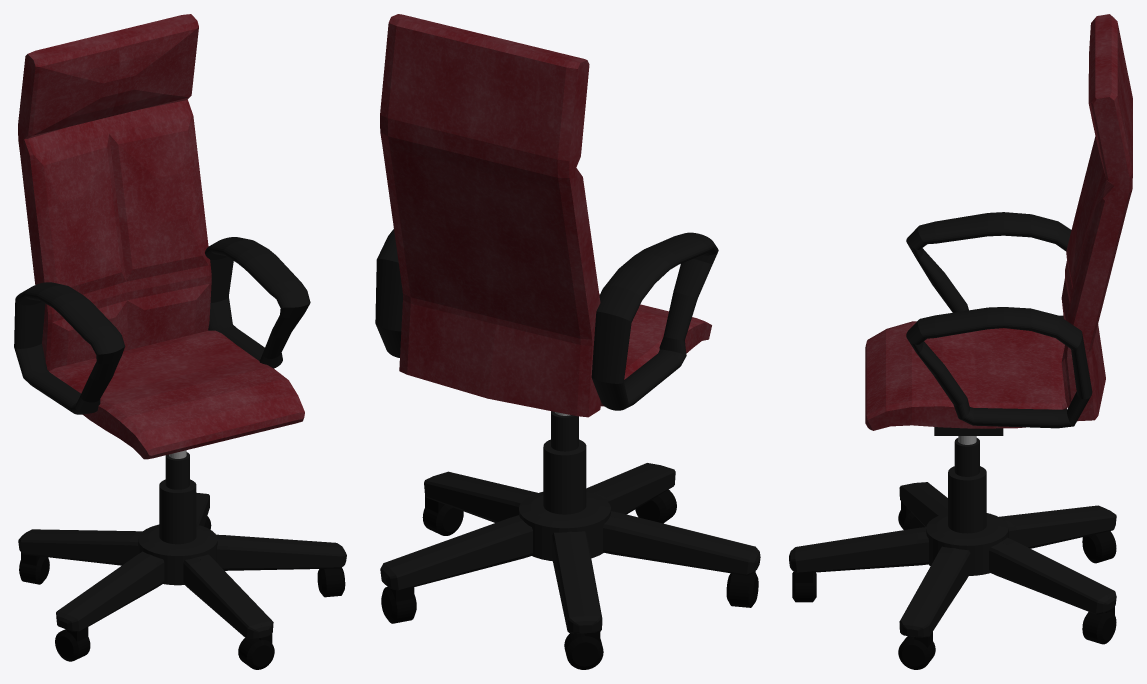
The picture shows the model from 3 angles, left to right: view 1: azimuth 30°, elevation 25°; view 2: azimuth 150°, elevation 25°; view 3: azimuth 270°, elevation 25°; orthographic projection. The views are drawn at different scales.
Parts seen in each view (by area): view 1: Cube.001, Cube, Cylinder, Cylinder.001, Cube.006, Cube.004, Cube.003, Cube.007, Cylinder.003, Cylinder.004, Cylinder.005, Cylinder.008 (+2 smaller); view 2: Cube.001, Cylinder, Cube.006, Cube.005, Cylinder.003, Cube.007, Cube.004, Cylinder.004, Cylinder.001, Cube.003, Cube, Cylinder.009 (+4 smaller); view 3: Cube, Cube.001, Cylinder.001, Cylinder, Cube.005, Cube.003, Cube.004, Cube.007, Cylinder.003, Cylinder.004, Cube.006, Cylinder.006 (+4 smaller).
Part boxes in pixels (x1,y1,x2,y2): Cube.001: (18,14,211,370); Cube: (49,330,304,459); Cylinder: (14,282,125,414); Cylinder.001: (205,237,310,368); Cube.006: (56,551,164,632); Cube.004: (216,534,346,570); Cube.003: (183,554,273,639); Cube.007: (18,529,142,565); Cylinder.003: (159,452,196,544); Cylinder.004: (138,524,217,585); Cylinder.005: (238,633,274,669); Cylinder.008: (55,627,90,661); Cube.001: (380,14,600,417); Cylinder: (591,232,718,410); Cube.006: (603,511,760,575); Cube.005: (380,515,532,591); Cylinder.003: (543,411,586,514); Cube.007: (552,531,602,633); Cube.004: (424,471,537,522); Cylinder.004: (519,491,610,561); Cylinder.001: (375,229,402,357); Cube.003: (586,463,675,514); Cube: (599,294,711,406); Cylinder.009: (564,631,603,669); Cube: (865,321,1067,430); Cube.001: (1061,14,1132,421); Cylinder.001: (906,307,1092,428); Cylinder: (906,212,1071,318); Cube.005: (989,537,1116,614); Cube.003: (789,527,928,573); Cube.004: (899,546,970,637); Cube.007: (999,505,1116,548); Cylinder.003: (948,438,986,533); Cylinder.004: (926,513,1008,575); Cube.006: (899,482,947,526); Cylinder.006: (898,632,935,669).
Bounding box in the file's own units: 21.89 × 38.45 × 21.97.
Materials: 4 (1 with a texture image).
